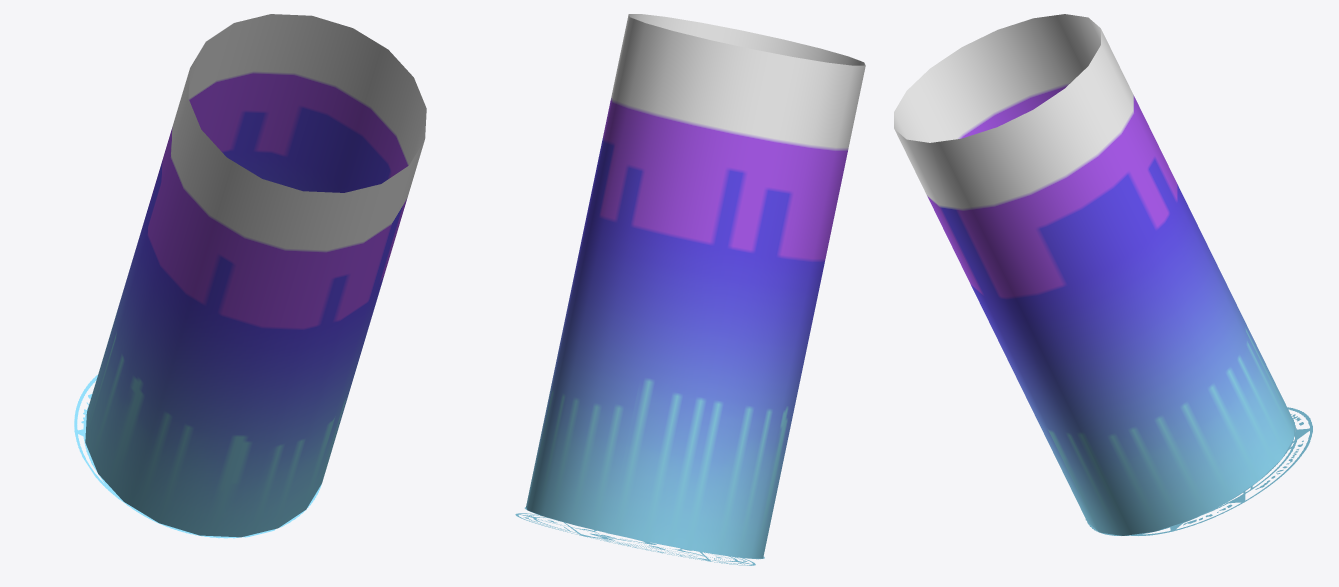
The model's file is Portal_FBX.FBX.
The picture shows the model from 3 angles, left to right: view 1: azimuth 30°, elevation 25°; view 2: azimuth 150°, elevation 25°; view 3: azimuth 270°, elevation 25°; orthographic projection. The views are drawn at different scales.
Parts seen in each view (by area): view 1: Portal_light, Portal_base001, Portal_base; view 2: Portal_light, Portal_base; view 3: Portal_light, Portal_base.
Part boxes in pixels (left/top/right/bottom): Portal_light: left=85, top=14, right=426, bottom=537; Portal_base001: left=83, top=404, right=321, bottom=538; Portal_base: left=74, top=375, right=121, bottom=500; Portal_light: left=526, top=14, right=865, bottom=558; Portal_base: left=515, top=513, right=755, bottom=565; Portal_light: left=894, top=14, right=1293, bottom=535; Portal_base: left=1131, top=407, right=1312, bottom=535.
Bounding box in the file's own units: 3 × 5.04 × 6.22.
